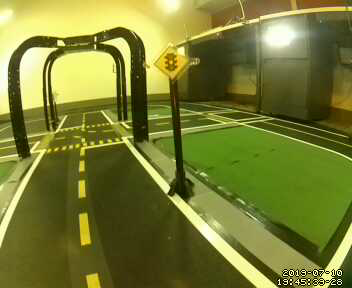Traffic light sign: (153, 43, 188, 79)
